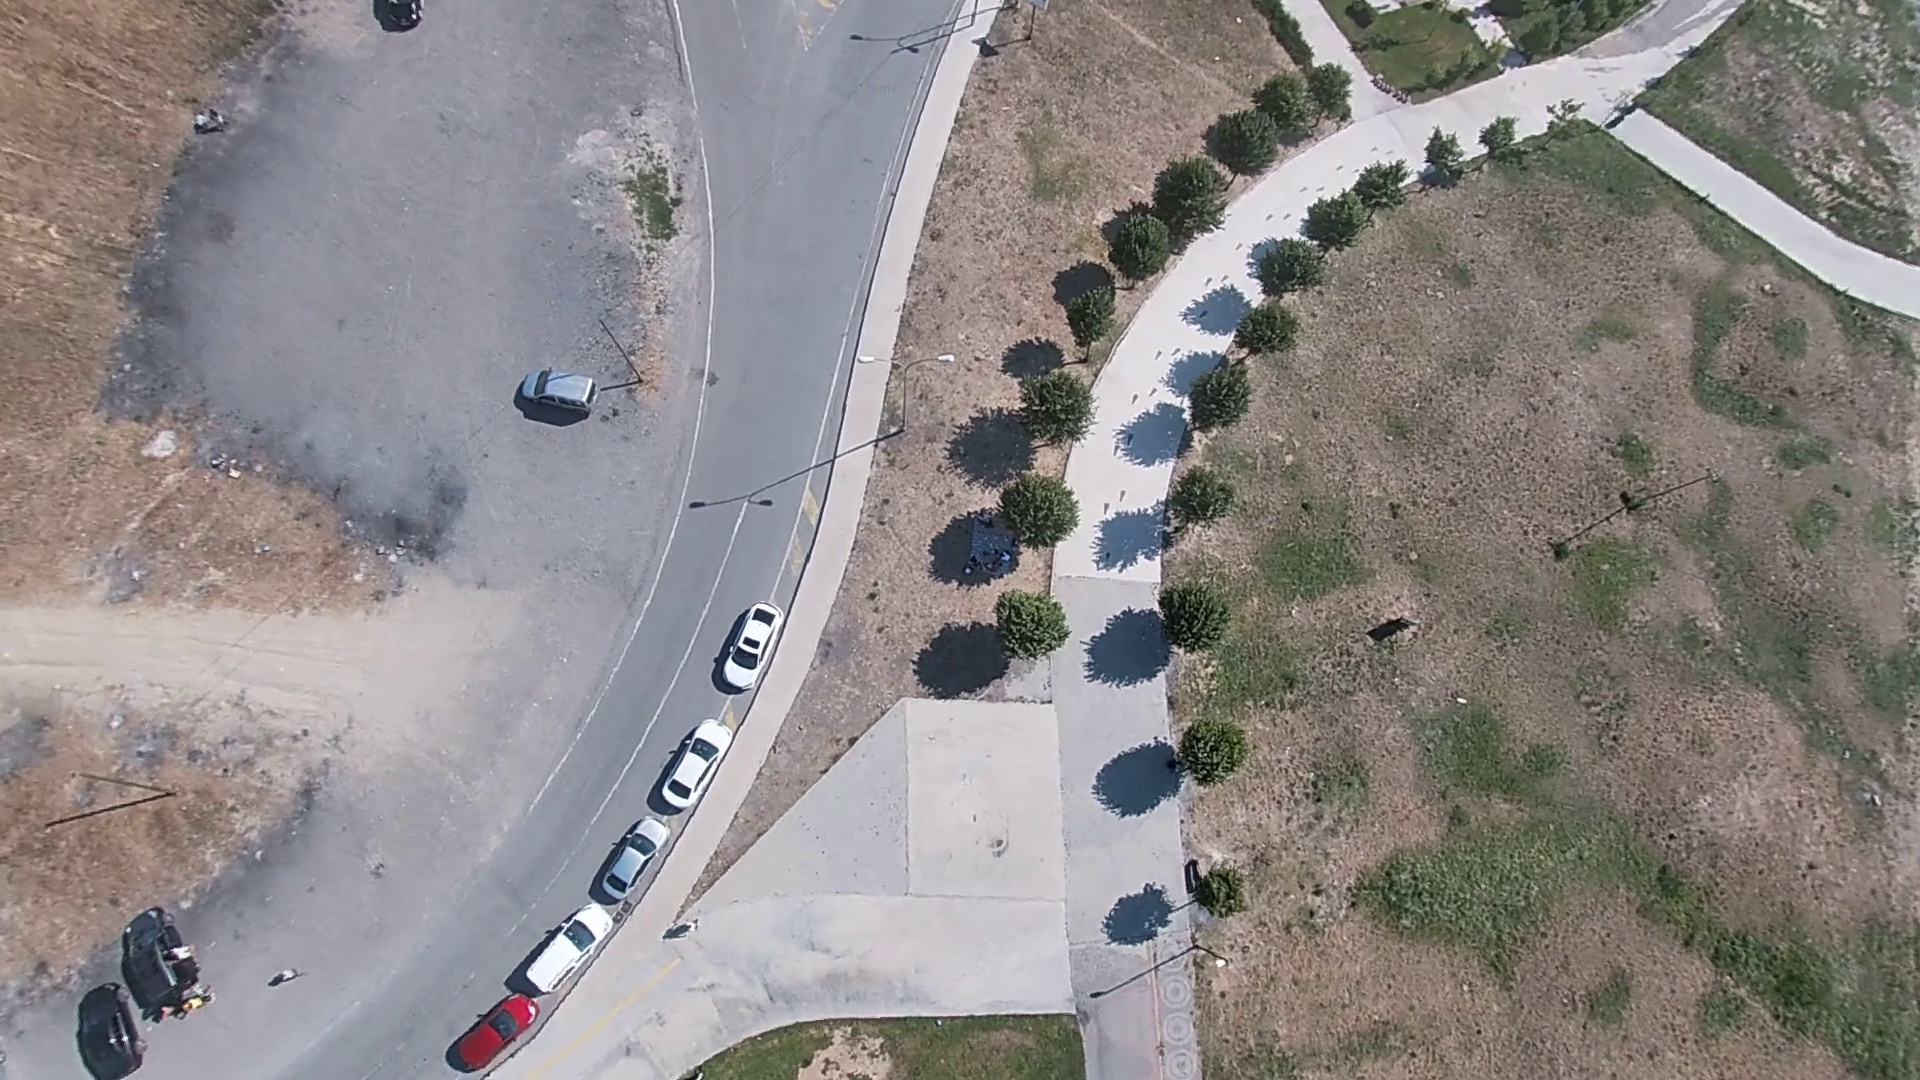arac: (518, 889, 618, 1004), (655, 705, 736, 819), (123, 893, 198, 1011), (446, 986, 550, 1069), (593, 806, 676, 903), (705, 593, 783, 698), (78, 975, 146, 1076), (506, 361, 599, 415)
